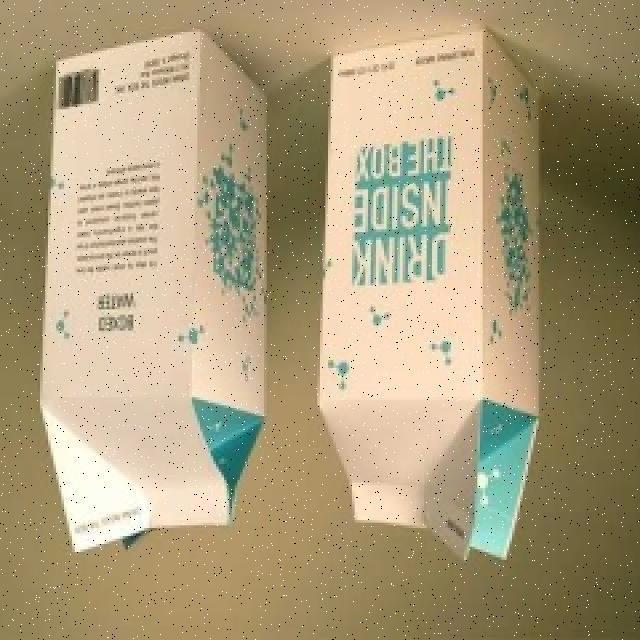box: (35, 32, 263, 580), (309, 24, 534, 572)
